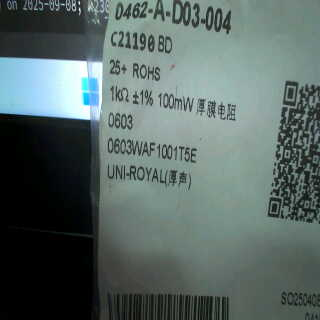1kR: (107, 84, 131, 105)
